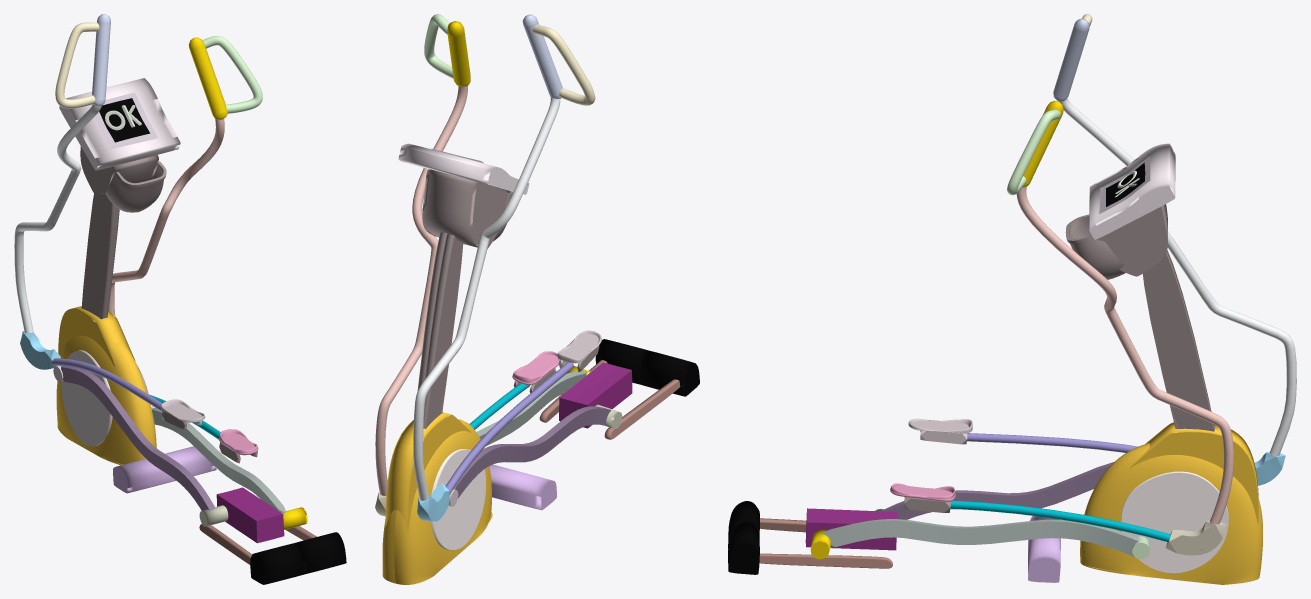
File: elliptical.glb
3 views of the same model, side by side, from view 1: azimuth 30°, elevation 25°; view 2: azimuth 150°, elevation 25°; view 3: azimuth 270°, elevation 25° (orthographic). The views are drawn at different scales.
Parts seen in each view (by area): view 1: p0012.83705, c0001.89831.Mirror, s0018.86243, p0003.82084.Mirror, s0032.43562, p0005.60340, s0031.24915, s0017.75091, p0006.35799.Mirror, p0004.45651.Mirror, p0011.67014, p0000.39488.Mirror (+19 smaller); view 2: c0001.89831.Mirror, p0011.67014, s0032.43562, s0031.24915, p0003.82084.Mirror, s0018.86243, p0005.60340, p0012.83705, p0004.45651.Mirror, p0006.35799.Mirror, p0000.39488.Mirror, s0019.39056 (+17 smaller); view 3: c0001.89831, p0005.60340.Mirror, p0003.82084, s0017.75091, s0031.24915, s0032.43562, p0012.83705, p0004.45651, p0011.67014, s0018.86243, s0020.09203, p0008.60432 (+10 smaller).
Boxes of the visible parts, x1=… form: p0012.83705: x1=59, y1=78, x2=180, y2=170; c0001.89831.Mirror: x1=56, y1=335, x2=147, y2=465; s0018.86243: x1=61, y1=366, x2=214, y2=510; p0003.82084.Mirror: x1=81, y1=193, x2=115, y2=319; s0032.43562: x1=14, y1=104, x2=101, y2=333; p0005.60340: x1=61, y1=350, x2=112, y2=446; s0031.24915: x1=108, y1=118, x2=224, y2=315; s0017.75091: x1=151, y1=407, x2=285, y2=512; p0006.35799.Mirror: x1=250, y1=543, x2=305, y2=584; p0004.45651.Mirror: x1=58, y1=306, x2=134, y2=366; p0011.67014: x1=80, y1=146, x2=158, y2=194; p0000.39488.Mirror: x1=216, y1=491, x2=271, y2=543; c0001.89831.Mirror: x1=394, y1=419, x2=491, y2=584; p0011.67014: x1=422, y1=169, x2=507, y2=248; s0032.43562: x1=413, y1=97, x2=560, y2=500; s0031.24915: x1=375, y1=85, x2=468, y2=495; p0003.82084.Mirror: x1=423, y1=233, x2=463, y2=428; s0018.86243: x1=453, y1=406, x2=610, y2=498; p0005.60340: x1=431, y1=449, x2=485, y2=550; p0012.83705: x1=398, y1=143, x2=529, y2=194; p0004.45651.Mirror: x1=385, y1=412, x2=471, y2=532; p0006.35799.Mirror: x1=640, y1=350, x2=699, y2=396; p0000.39488.Mirror: x1=573, y1=366, x2=632, y2=428; s0019.39056: x1=445, y1=362, x2=573, y2=494; c0001.89831: x1=1080, y1=445, x2=1262, y2=584; p0005.60340.Mirror: x1=1121, y1=471, x2=1228, y2=573; p0003.82084: x1=1143, y1=251, x2=1214, y2=431; s0017.75091: x1=821, y1=519, x2=1139, y2=556; s0031.24915: x1=1016, y1=186, x2=1233, y2=524; s0032.43562: x1=1058, y1=98, x2=1296, y2=456; p0012.83705: x1=1089, y1=143, x2=1175, y2=239; p0004.45651: x1=1130, y1=428, x2=1258, y2=525; p0011.67014: x1=1097, y1=204, x2=1167, y2=276; s0018.86243: x1=881, y1=462, x2=1113, y2=519; s0020.09203: x1=950, y1=500, x2=1201, y2=549; p0008.60432: x1=759, y1=553, x2=892, y2=568.
Bounding box in the file's own units: 0.4343 × 1.09 × 1.06.
